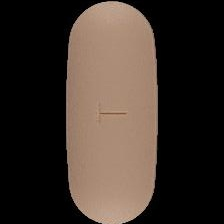10544-624: (0, 0, 224, 224)
